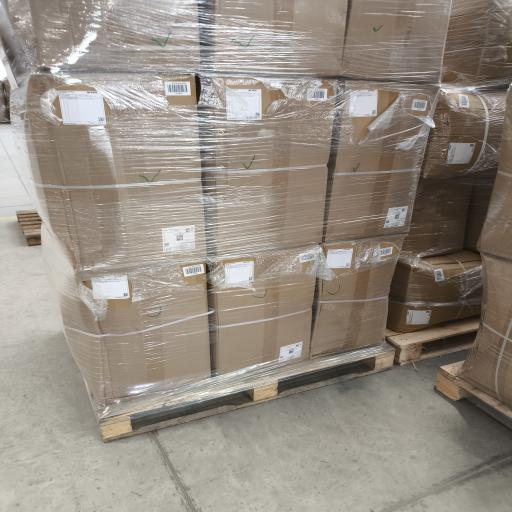pallet: (99, 344, 394, 441), (436, 362, 511, 428), (386, 316, 480, 364), (16, 210, 41, 245)
